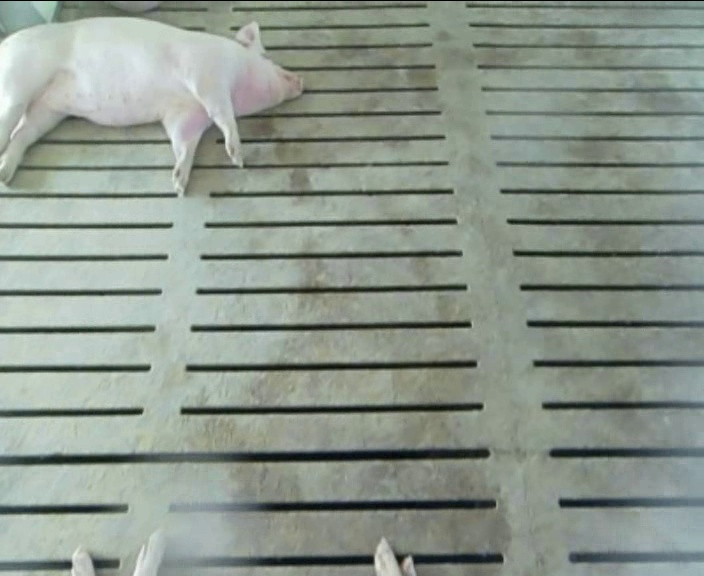pig: (0, 18, 301, 195)
